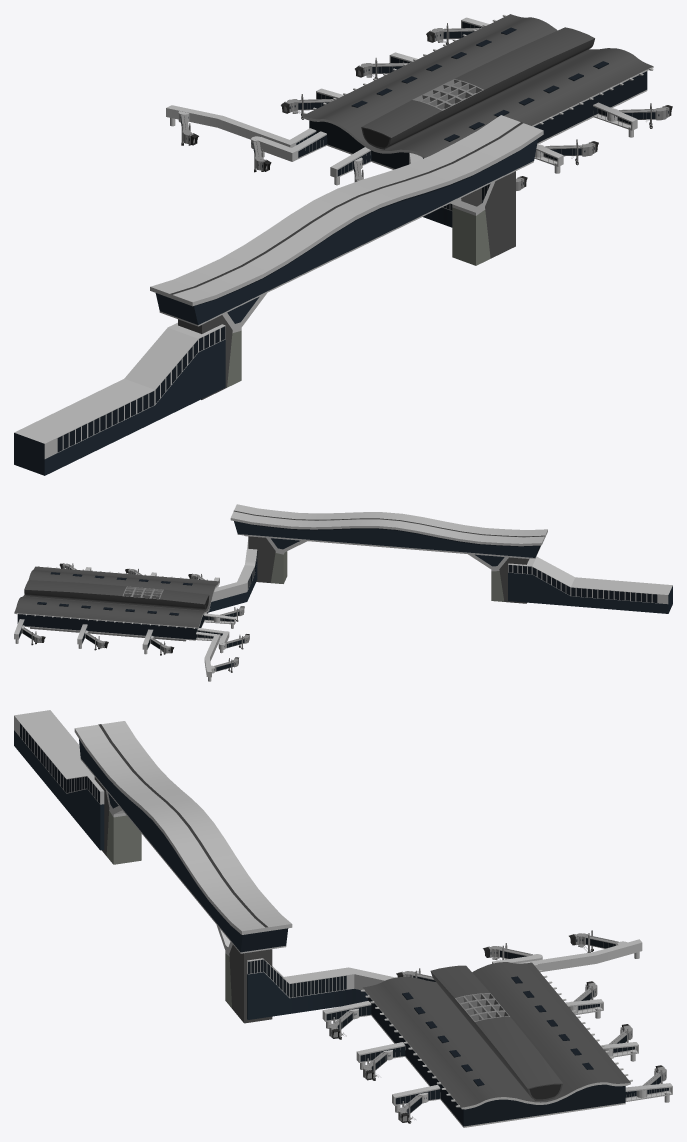
The model's file is Skybridge.glb.
The picture shows the model from 3 angles, top to bottom: view 1: azimuth 30°, elevation 25°; view 2: azimuth 150°, elevation 25°; view 3: azimuth 270°, elevation 25°; orthographic projection. The views are drawn at different scales.
Parts seen in each view (by area): view 1: Cube.001; view 2: Cube.001; view 3: Cube.001.
Boxes of the visible parts, <box> form: Cube.001: <box>14,14,672,475</box>; Cube.001: <box>14,504,672,681</box>; Cube.001: <box>14,710,672,1127</box>.
Size of the model in its own units: 367 by 48 by 258.
